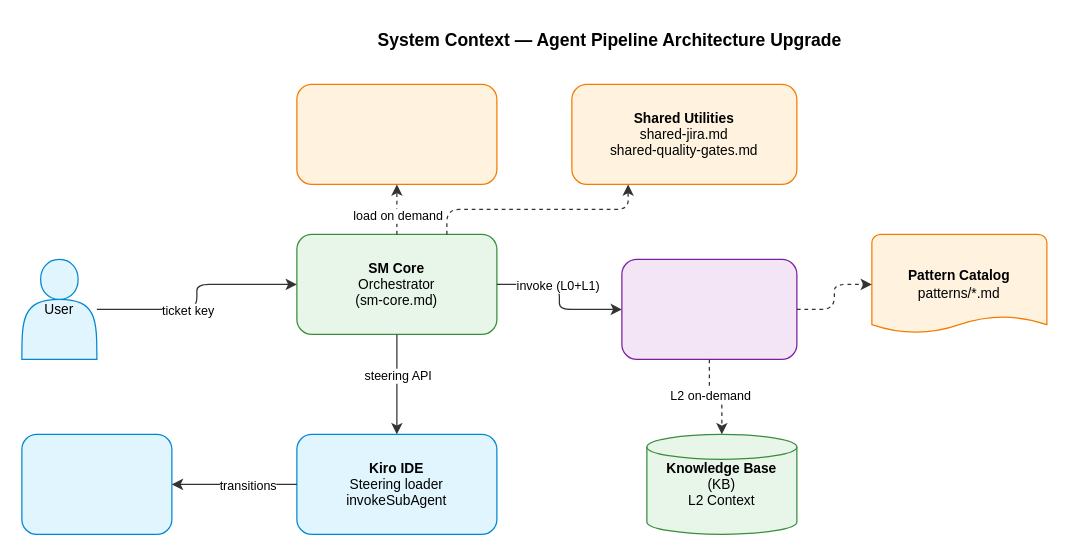
The diagram is 1069 pixels wide and 556 high, and some of its shapes have lost their labels. Each missing label, with the centre of its shape:
Jira Tickets Workflow: pixel 96 483
Phase Steering Files phase-1..7.md (loaded on demand): pixel 396 133
Sub-Agents BA, TA, SA, QA DEV, DevOps: pixel 709 308
